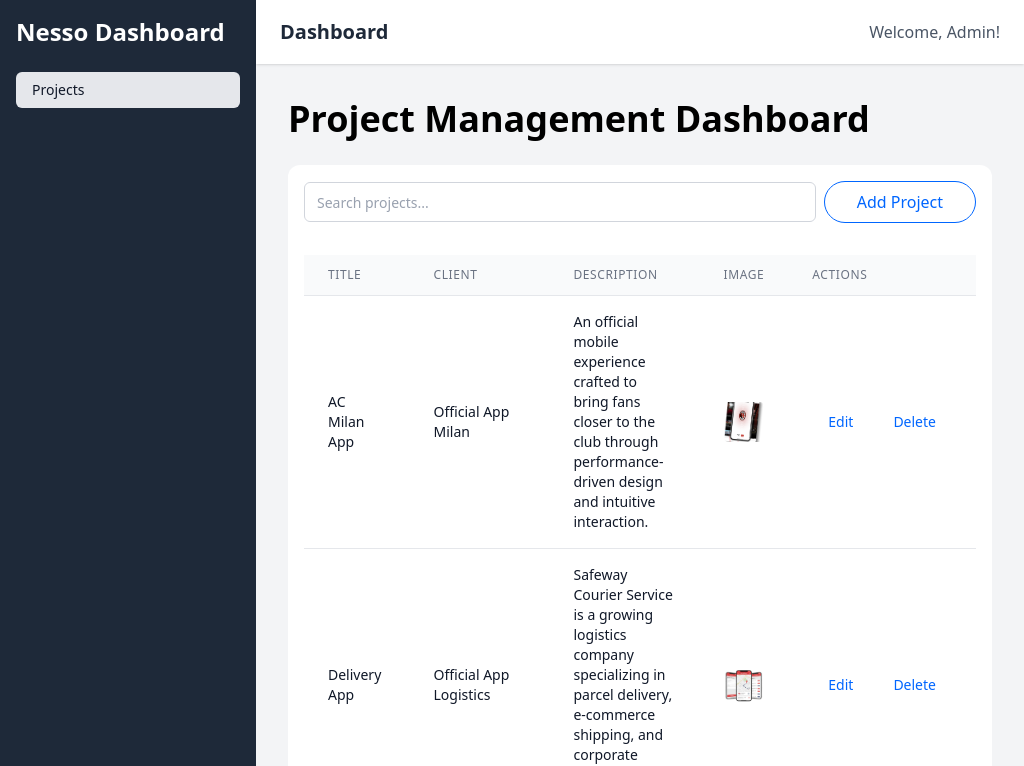
Project Management Dashboard › adds a new project when form is submitted
The width and height of the screenshot is (1024, 766).
Note: Open modal - get outline button
Click the button "Add Project": point(900, 202) [824,181,976,223]
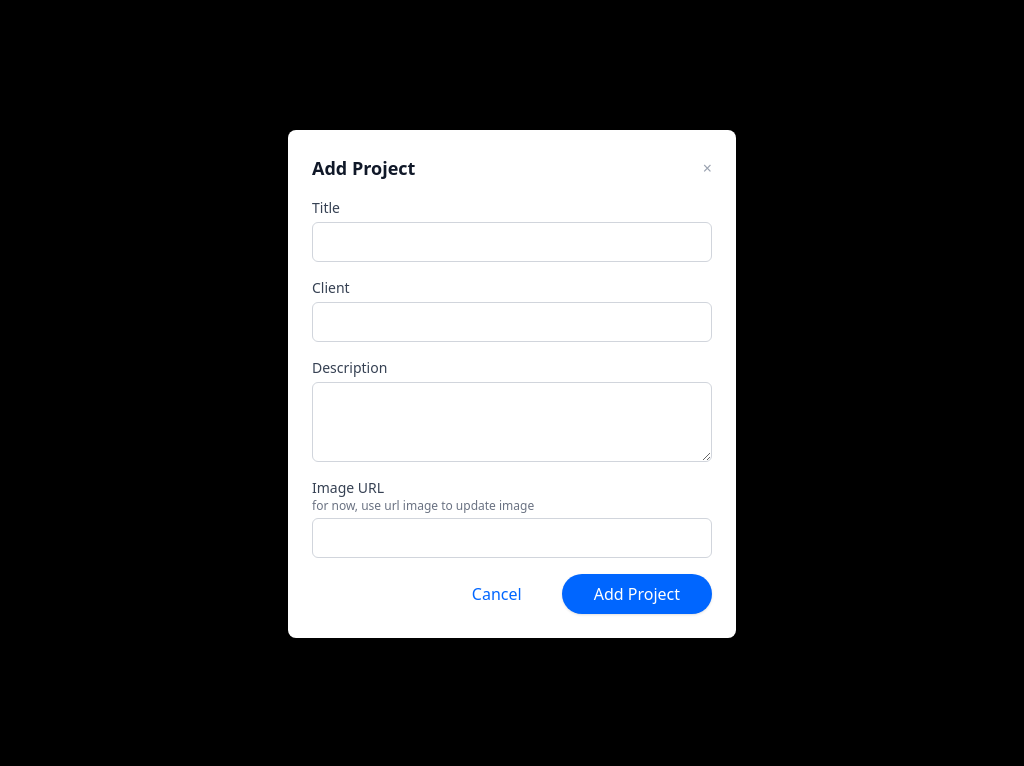
In the field labelled "Title": point(512, 242) [312,222,712,262], type "New Test Project"
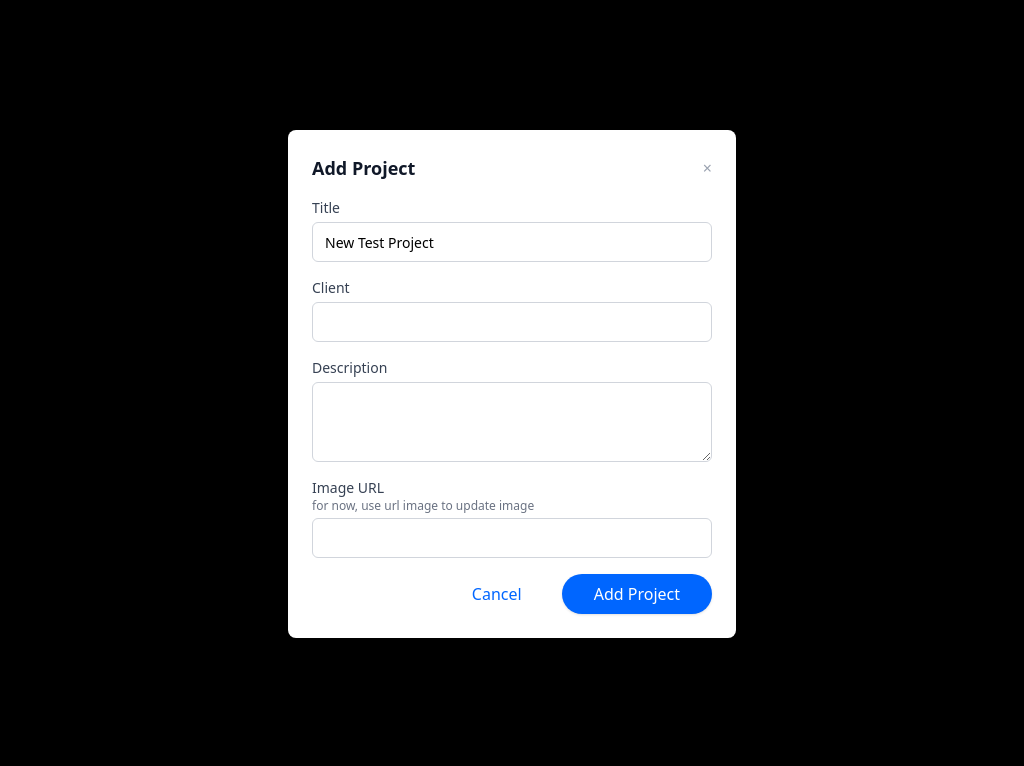
In the field labelled "Client": point(512, 322) [312,302,712,342], type "Test Client"
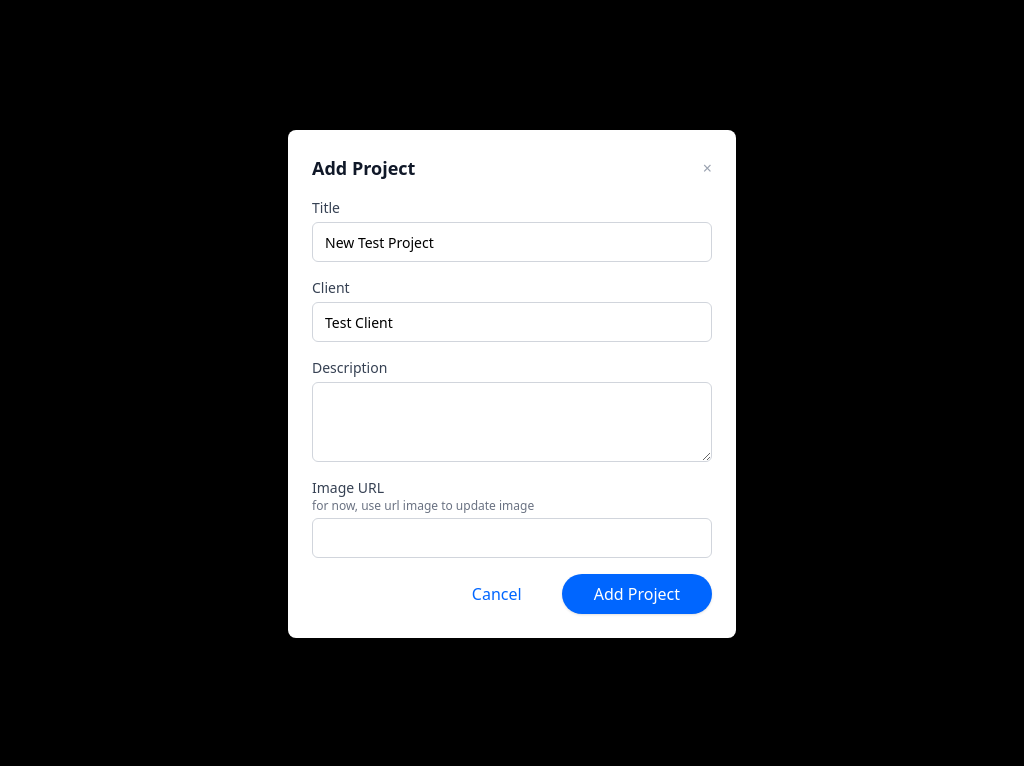
In the text box labelled "Description": point(512, 422) [312,382,712,462], type "Test Description"
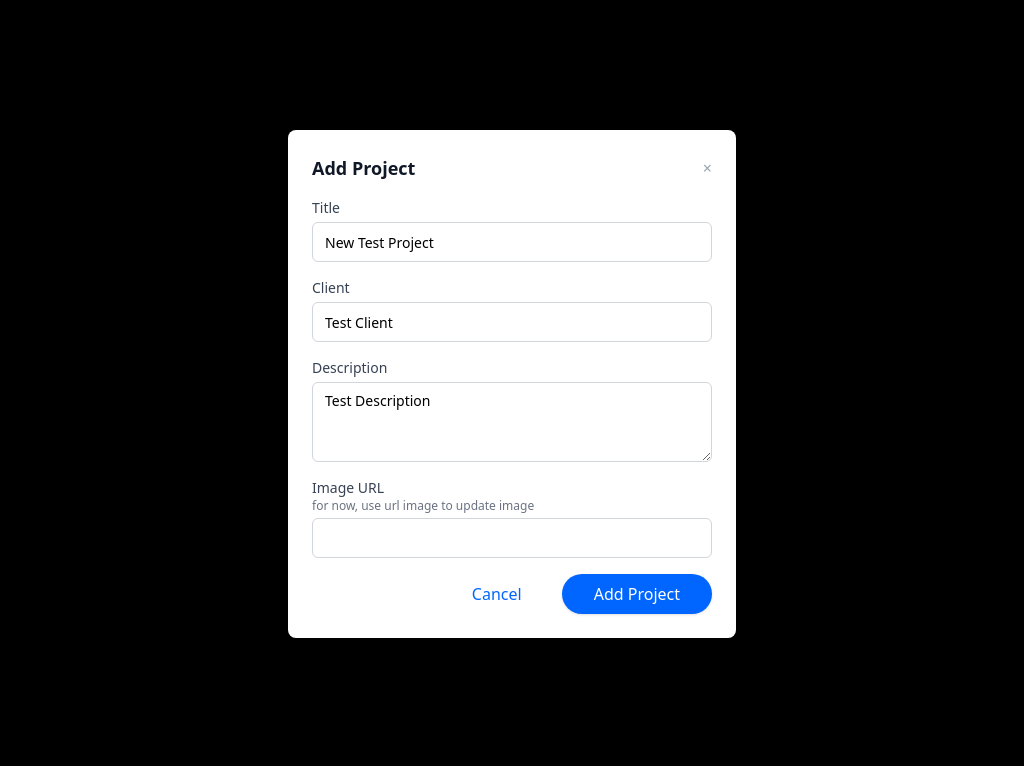
Click the button with test id "submit-project": point(637, 594) [562,574,712,614]
(page scrolled)
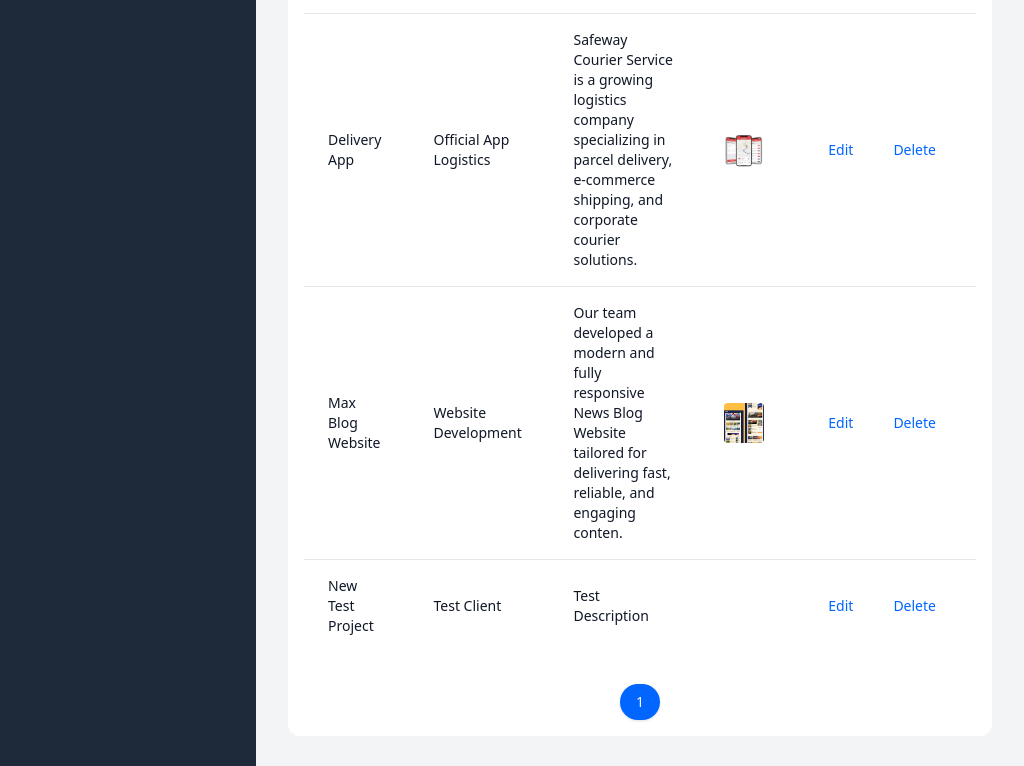
expect the text "New Test Project" is shown: met, box [304,560,410,652]
